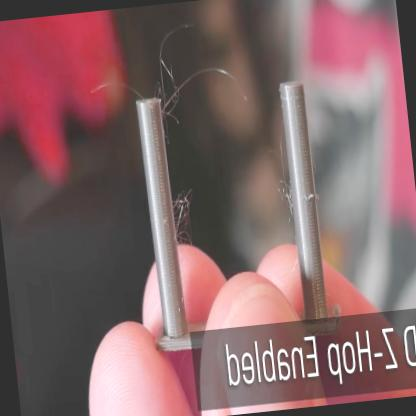fail: (152, 4, 256, 141), (267, 161, 297, 242), (170, 179, 203, 247)
